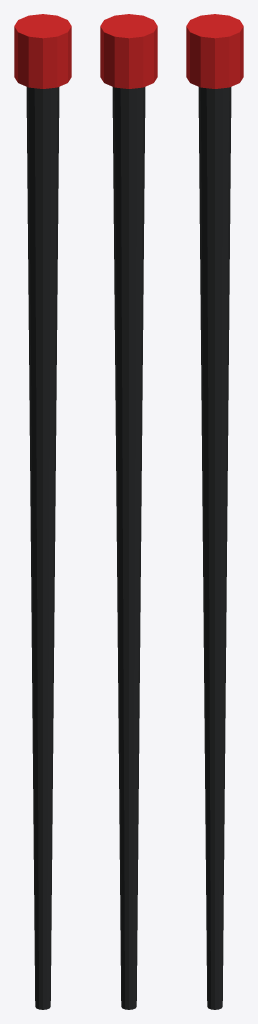
File: SG_BastonRed.fbx
3 views of the same model, side by side, from view 1: azimuth 30°, elevation 25°; view 2: azimuth 150°, elevation 25°; view 3: azimuth 330°, elevation 25° (orthographic).
Visible parts, largest first — view 1: baston; view 2: baston; view 3: baston.
Boxes of the visible parts, <box> form: baston: <box>14,14,71,1009</box>; baston: <box>100,14,157,1009</box>; baston: <box>186,14,243,1009</box>.
Size of the model in its own units: 0.0714 by 1.34 by 0.0714.
